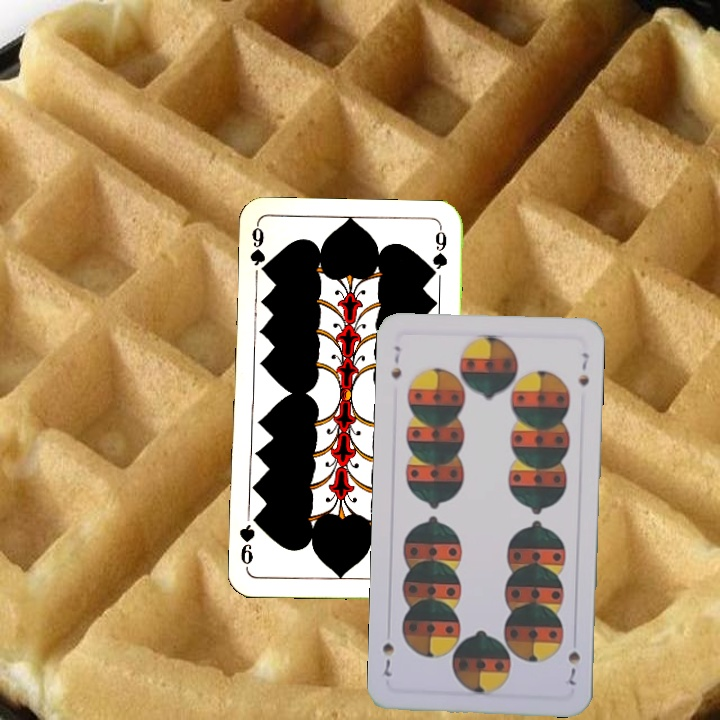G9: (246, 222, 268, 277)
S7: (564, 647, 583, 688), (387, 342, 404, 382)
